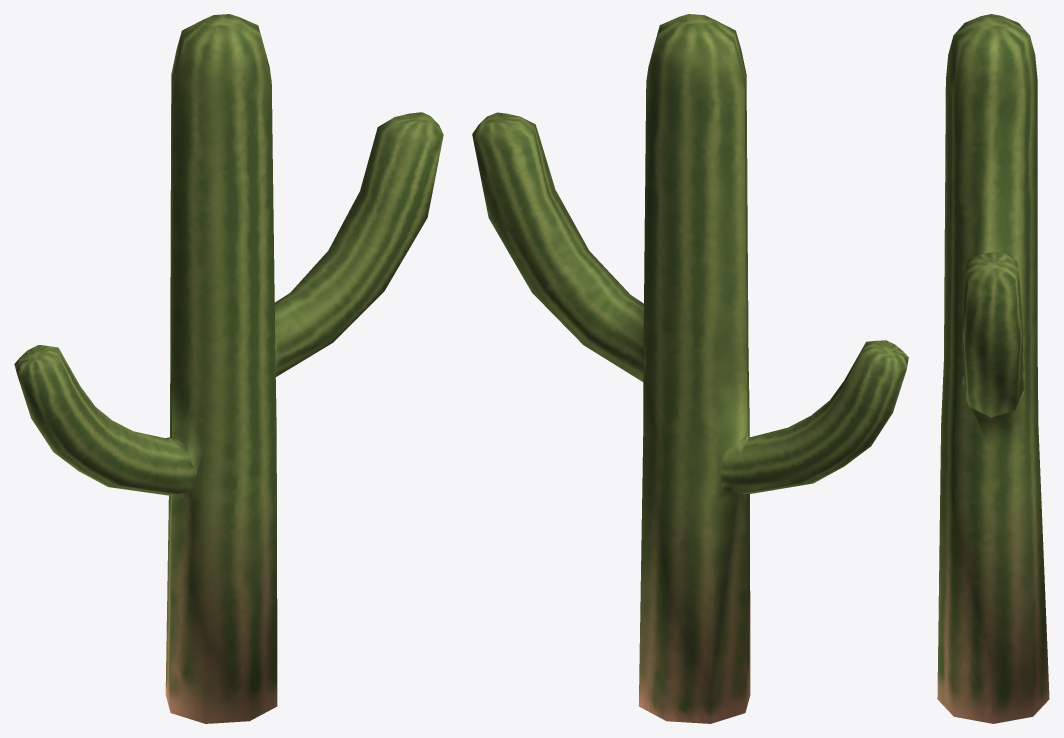
Rendered from cactus_2.glb.
3 renders of one model, left to right at view 1: azimuth 30°, elevation 25°; view 2: azimuth 150°, elevation 25°; view 3: azimuth 270°, elevation 25°, orthographic.
Visible parts, largest first — view 1: cactus_2_cacturs_2_0; view 2: cactus_2_cacturs_2_0; view 3: cactus_2_cacturs_2_0.
Part boxes in pixels (box(x1,y1,x2,y2)): cactus_2_cacturs_2_0: box(14, 14, 443, 723); cactus_2_cacturs_2_0: box(472, 14, 908, 723); cactus_2_cacturs_2_0: box(937, 14, 1049, 723).
Bounding box in the file's own units: 1.9 × 2.9 × 0.4359.
Materials: 1 (1 with a texture image).
